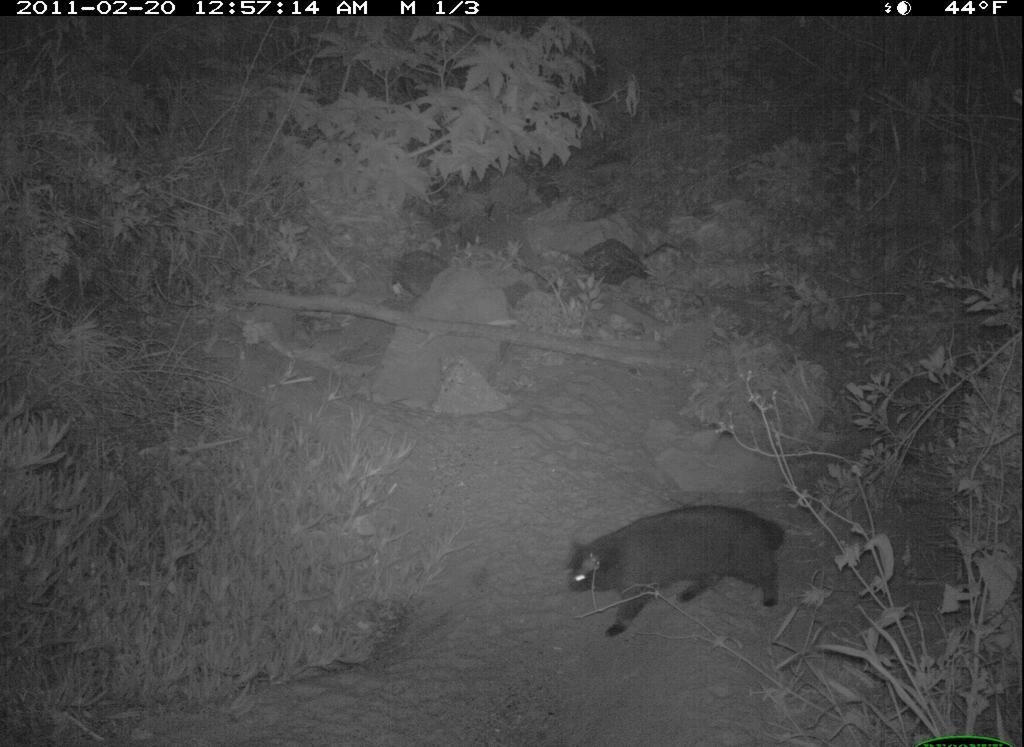cat: (557, 496, 798, 647)
